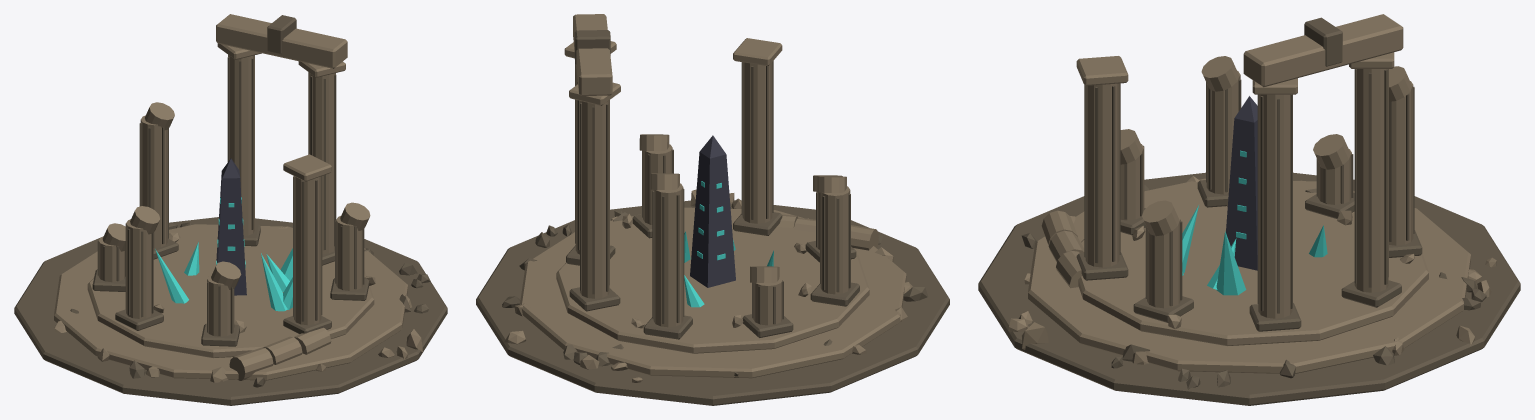
File: ruins.fbx
3 views of the same model, side by side, from view 1: azimuth 30°, elevation 25°; view 2: azimuth 150°, elevation 25°; view 3: azimuth 270°, elevation 25° (orthographic). The views are drawn at different scales.
Visible parts, largest first — view 1: ruins; view 2: ruins; view 3: ruins.
Part boxes in pixels (box(x1,y1,x2,y2)): ruins: box(14, 14, 447, 405); ruins: box(476, 14, 949, 405); ruins: box(978, 14, 1520, 405).
Bounding box in the file's own units: 2.4 × 1.56 × 2.4.
